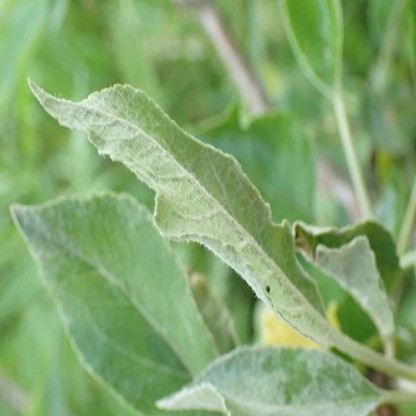powdery_mildew: (27, 78, 328, 345), (8, 192, 217, 411), (154, 344, 381, 416), (316, 237, 392, 332)
